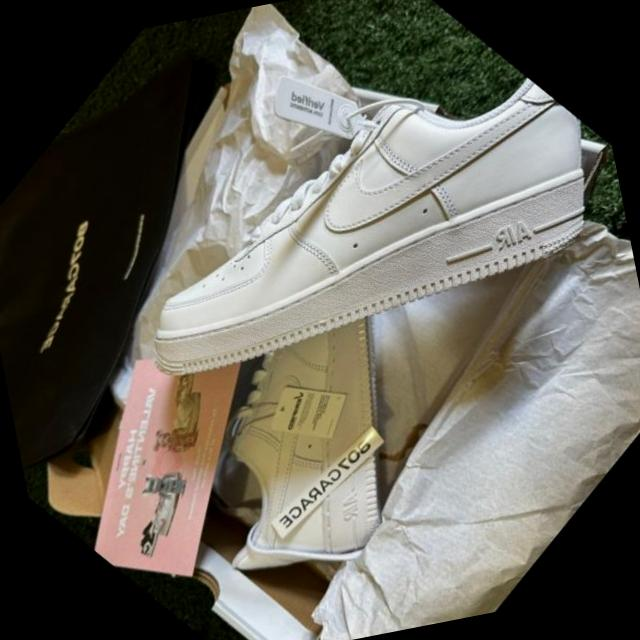nike_original_airforce: (71, 0, 640, 558)
